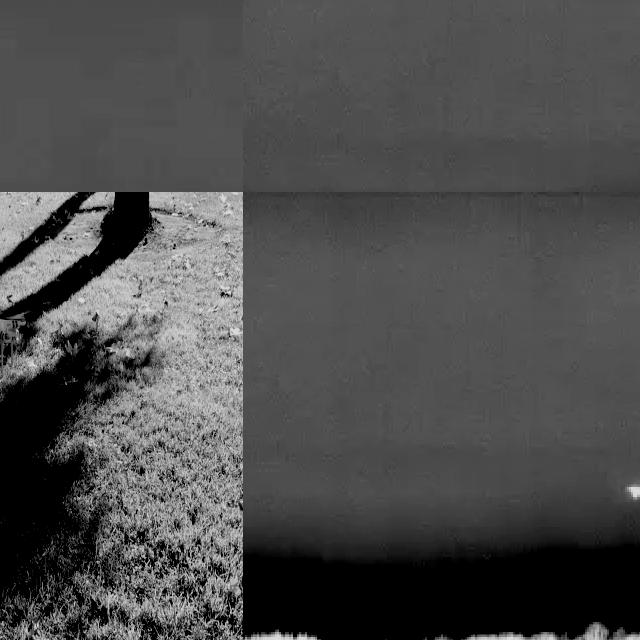1: (617, 474, 640, 509)
drone: (0, 309, 27, 380)
